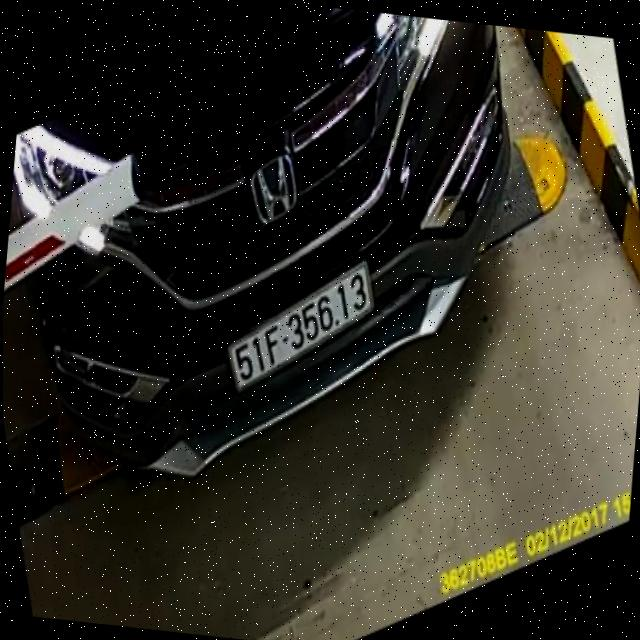car: (0, 0, 528, 516)
plate: (222, 246, 381, 407)
